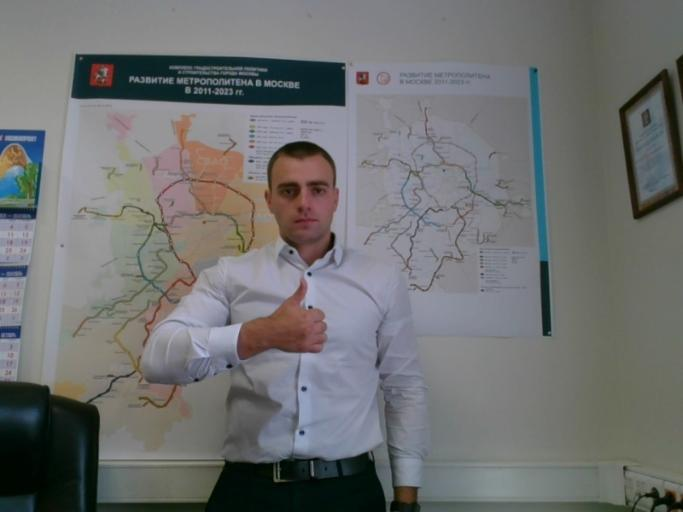like: (268, 277, 331, 363)
